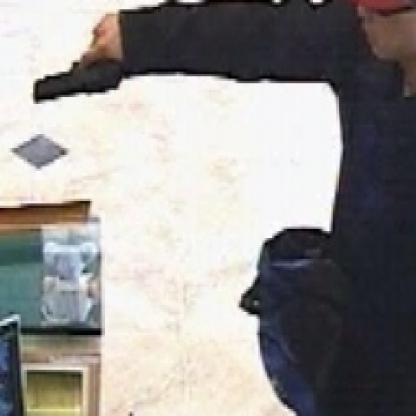gun: (27, 9, 132, 111)
